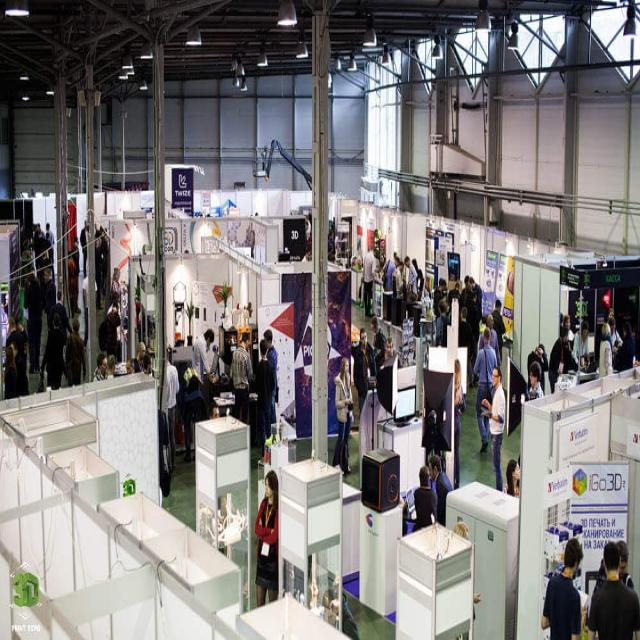body: (583, 538, 639, 639), (540, 536, 587, 640), (451, 516, 482, 639), (432, 272, 482, 348), (254, 468, 280, 608), (303, 574, 358, 639), (480, 365, 507, 493), (472, 326, 499, 454), (330, 354, 355, 478), (252, 338, 276, 459), (352, 326, 378, 422), (3, 309, 29, 405), (38, 310, 68, 392), (228, 331, 254, 424), (22, 272, 45, 374), (94, 342, 154, 381), (24, 220, 55, 288), (428, 452, 453, 528), (453, 357, 467, 491), (166, 346, 180, 475), (412, 465, 438, 530), (64, 317, 87, 390), (262, 329, 279, 425), (190, 328, 215, 393), (94, 222, 112, 312), (547, 326, 570, 394), (477, 310, 502, 372), (48, 288, 74, 346), (611, 318, 636, 372), (526, 341, 550, 397), (66, 232, 82, 315), (81, 274, 98, 350), (103, 298, 122, 364), (362, 243, 378, 320), (614, 539, 636, 594), (572, 317, 592, 373), (381, 252, 397, 320), (369, 315, 387, 373), (491, 298, 506, 364), (110, 265, 124, 331), (598, 321, 614, 378), (43, 266, 57, 330), (501, 458, 521, 500), (326, 229, 347, 267), (403, 255, 419, 302), (527, 360, 544, 400), (558, 308, 574, 350), (79, 217, 89, 279), (608, 316, 623, 354), (399, 483, 409, 539), (302, 212, 313, 262), (395, 259, 404, 317), (213, 493, 224, 540), (458, 306, 470, 348), (207, 400, 221, 424), (249, 209, 255, 260), (260, 144, 270, 174), (515, 447, 521, 494), (385, 334, 394, 359), (27, 185, 36, 200), (607, 307, 615, 322), (105, 312, 112, 329), (199, 212, 213, 220), (384, 349, 388, 363), (183, 248, 189, 255)
